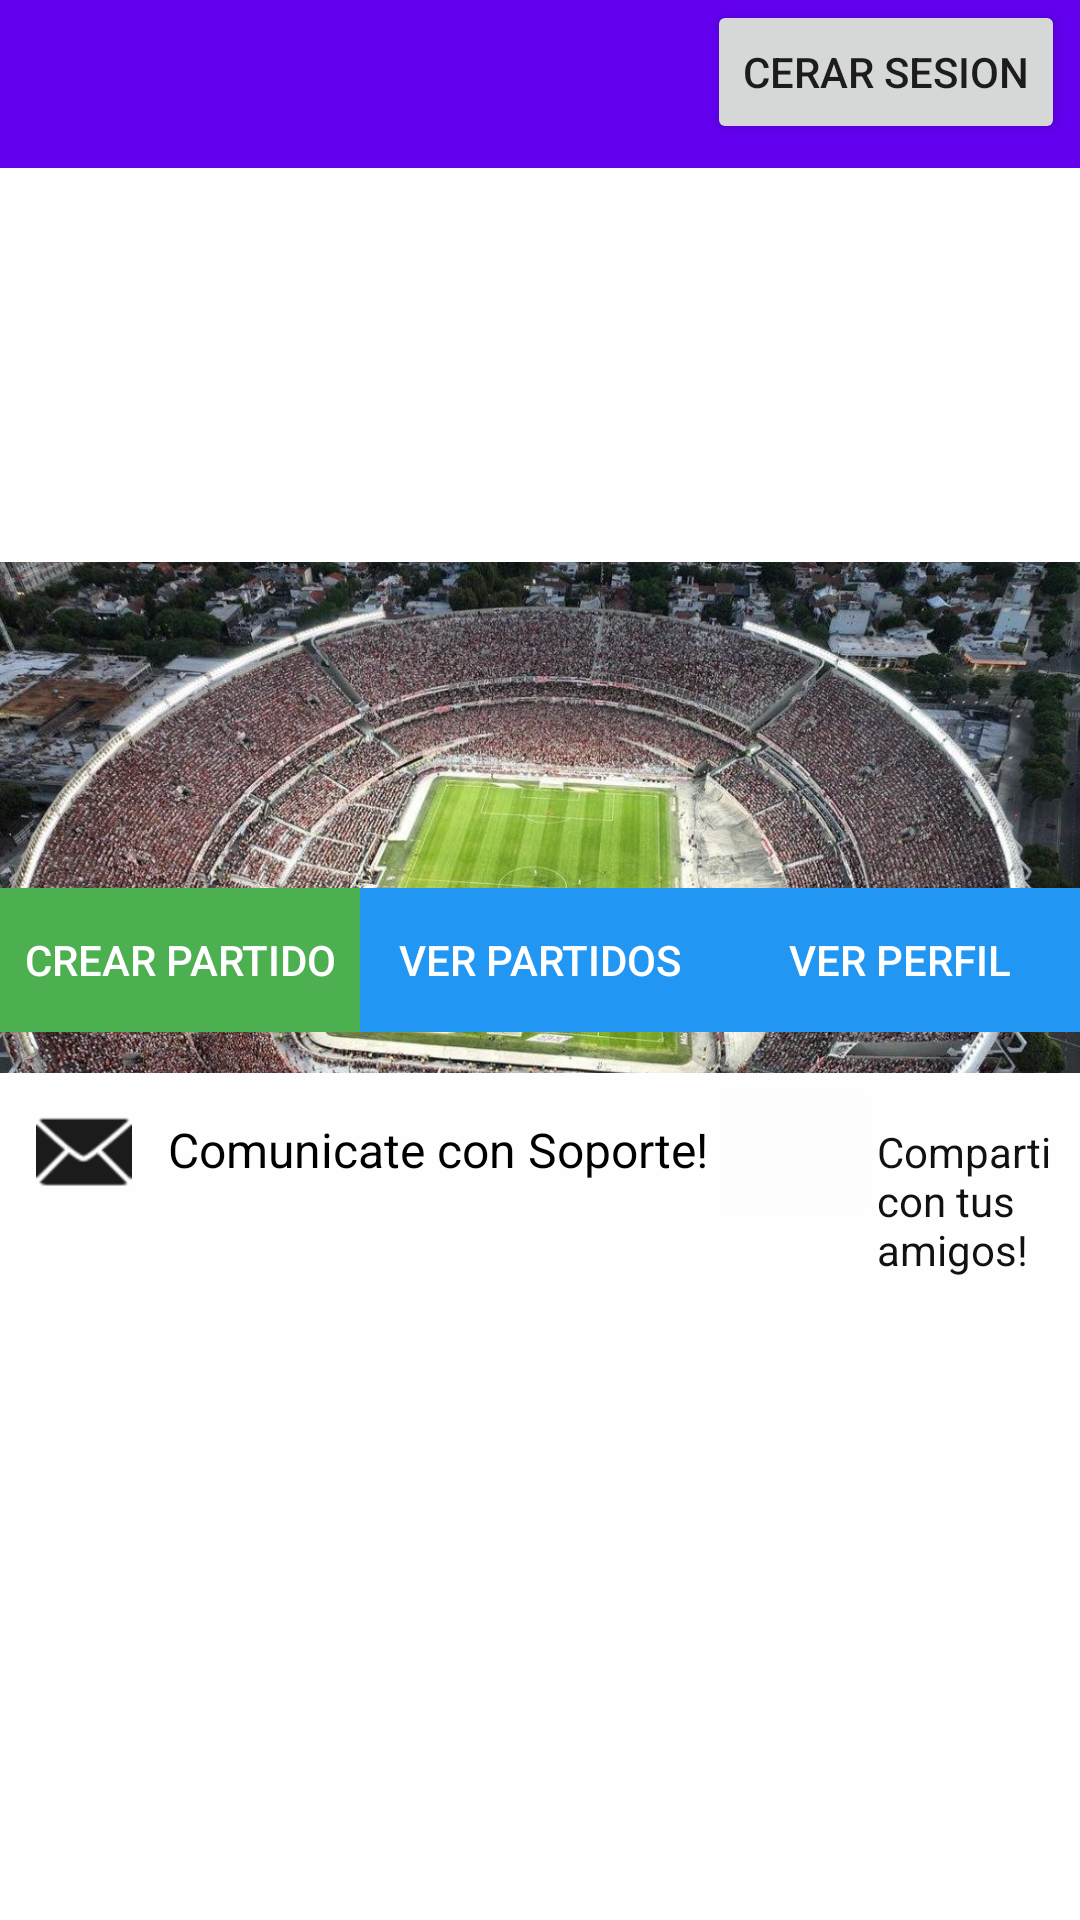

Icons on this 1080px x 1920px Android screen, each with its box as rect(x1, y1, x2, y2):
email: rect(36, 1118, 132, 1186)
